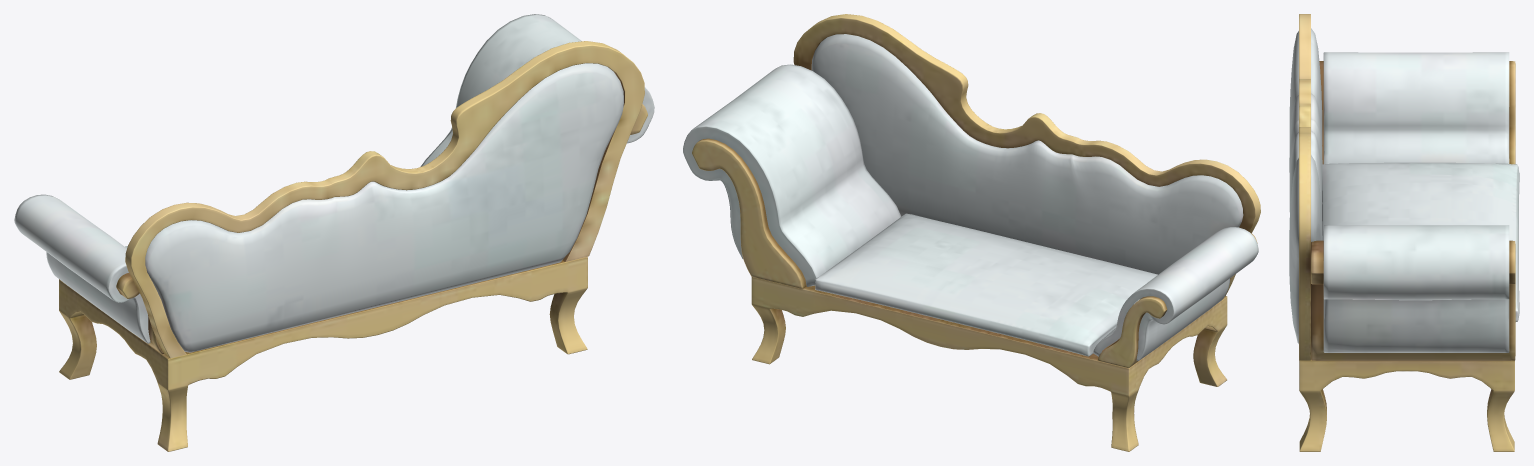
Rendered from Sofa24.glb.
The picture shows the model from 3 angles, left to right: view 1: azimuth 30°, elevation 25°; view 2: azimuth 150°, elevation 25°; view 3: azimuth 270°, elevation 25°; orthographic projection. The views are drawn at different scales.
Visible parts, largest first — view 1: Sofa24_model; view 2: Sofa24_model; view 3: Sofa24_model.
Part boxes in pixels (x1=…): Sofa24_model: x1=14, y1=14, x2=654, y2=451; Sofa24_model: x1=683, y1=14, x2=1260, y2=451; Sofa24_model: x1=1289, y1=14, x2=1519, y2=451.
Size of the model in its own units: 3.99 by 2.14 by 1.48.
Materials: 1 (1 with a texture image).
